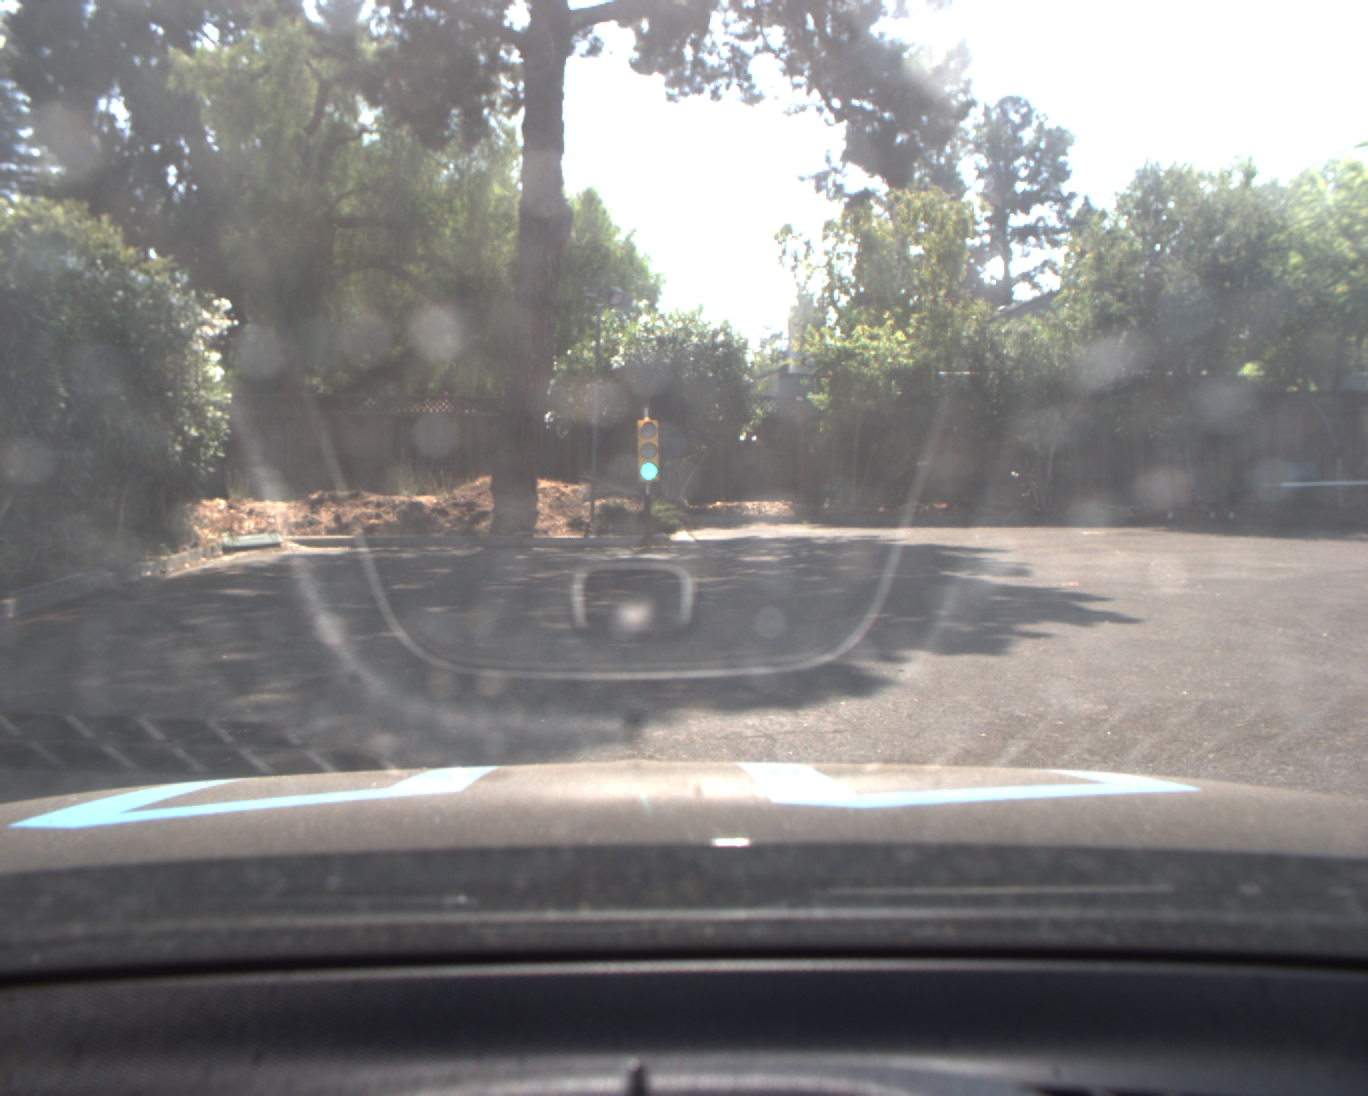green: (635, 415, 662, 481)
